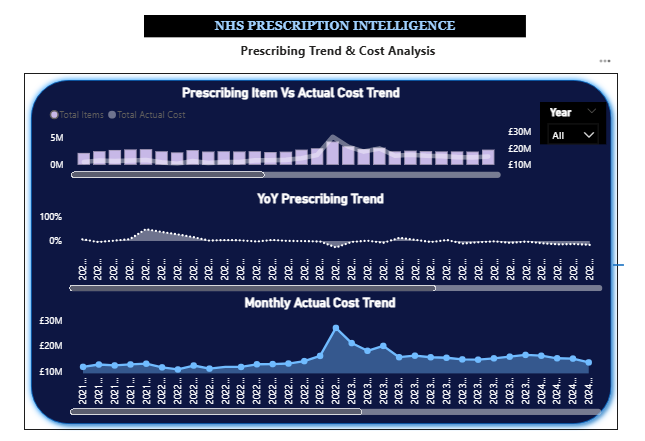

What the dashboard file says about the page in this screenshot:
{"tool":"powerbi","page":{"name":"TRENDS & COST","canvas":[1280,720],"ordinal":2},"visuals":[{"type":"shape","box":[159.5,150,771.6,464.9],"z":0},{"type":"shape","box":[924.1,325.3,13.9,150.6],"z":1000},{"type":"qnaVisual","box":[980,75.3,300,150],"z":2000},{"type":"textbox","box":[315.2,75.9,496.2,29.1],"z":3000},{"type":"textbox","box":[368.9,105.4,401.4,32.4],"z":4000},{"type":"lineChart","title":"Monthly Actual  Cost Trend","fields":{"Y":["Fact_Prescribing.Total Actual Cost"],"Category":["Dim_Date.Year-Month"]},"box":[174.3,439.2,740.5,160.8],"z":5000},{"type":"slicer","fields":{"Values":["Dim_Date.Year"]},"box":[829.7,187.8,86.5,55.4],"z":6000},{"type":"lineChart","title":"YoY Prescribing Trend","fields":{"Y":["Fact_Prescribing.YoY Items %"],"Category":["Dim_Date.Year-Month"]},"box":[174.3,304.1,741.9,135.1],"z":8000},{"type":"lineClusteredColumnComboChart","title":"Prescribing Item Vs Actual Cost Trend","fields":{"Category":["Dim_Date.Year-Month"],"Y":["Fact_Prescribing.Total Items"],"Y2":["Fact_Prescribing.Total Actual Cost"]},"box":[187.8,166.2,636.5,125.7],"z":9000}]}

Visuals, with their boxes on the page's 1280x720 design canvas (x1, y1, x2, y2). These are canvas units, not pixel positions in the 645x441 screenshot, which may show the page scaled, cropped or inside an application window:
shape: locate(160, 150, 931, 615)
shape: locate(924, 325, 938, 476)
qnaVisual: locate(980, 75, 1280, 225)
textbox: locate(315, 76, 811, 105)
textbox: locate(369, 105, 770, 138)
"Monthly Actual  Cost Trend" lineChart: locate(174, 439, 915, 600)
slicer - Dim_Date.Year: locate(830, 188, 916, 243)
"YoY Prescribing Trend" lineChart: locate(174, 304, 916, 439)
"Prescribing Item Vs Actual Cost Trend" lineClusteredColumnComboChart: locate(188, 166, 824, 292)
